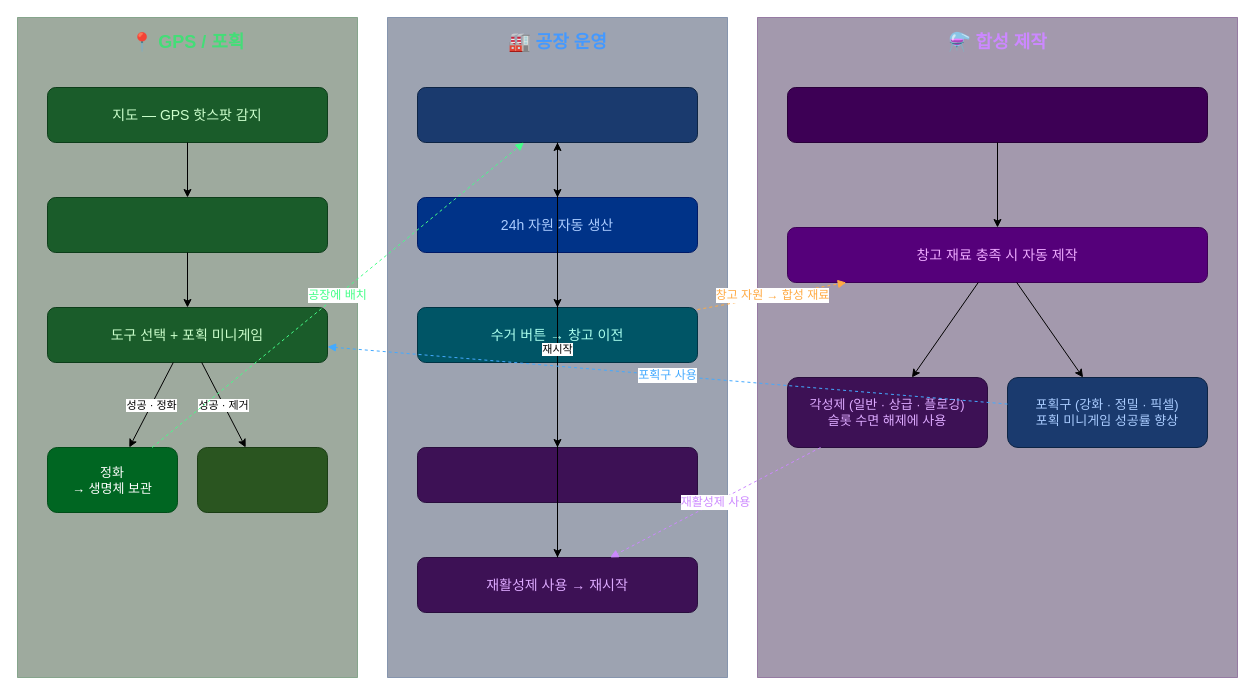
The diagram is 1255 pixels wide and 695 high, and some of its shapes have lost their labels. The shapes that lost their labels are listed below. From the top down, each one's box as (x1, y1, x2, y2) in pixels, then its label:
(416, 86, 698, 142): 시설에 생명체 배치
(786, 86, 1208, 142): 레시피 슬롯 선택 (3개)
(46, 196, 328, 252): 생명체 마커 탭 → AR 씬 진입
(196, 446, 328, 512): 제거 → 각성제 획득
(416, 446, 698, 502): 24h 완료 → 수면
